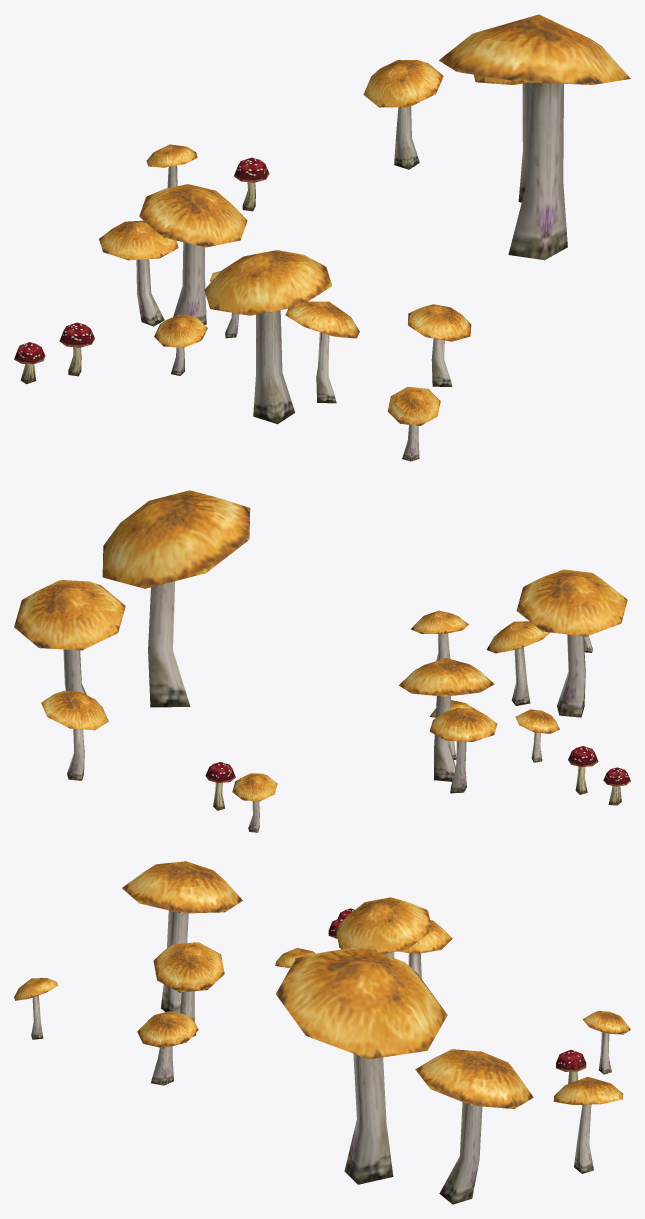
File: mogu_40.FBX
The picture shows the model from 3 angles, top to bottom: view 1: azimuth 30°, elevation 25°; view 2: azimuth 150°, elevation 25°; view 3: azimuth 270°, elevation 25°; orthographic projection. The views are drawn at different scales.
Visible parts, largest first — view 1: mogu_40; view 2: mogu_40; view 3: mogu_40.
Part boxes in pixels (x1=…): mogu_40: x1=14, y1=14, x2=630, y2=461; mogu_40: x1=14, y1=490, x2=630, y2=832; mogu_40: x1=14, y1=861, x2=630, y2=1204.
Bounding box in the file's own units: 141 × 48.41 × 129.
